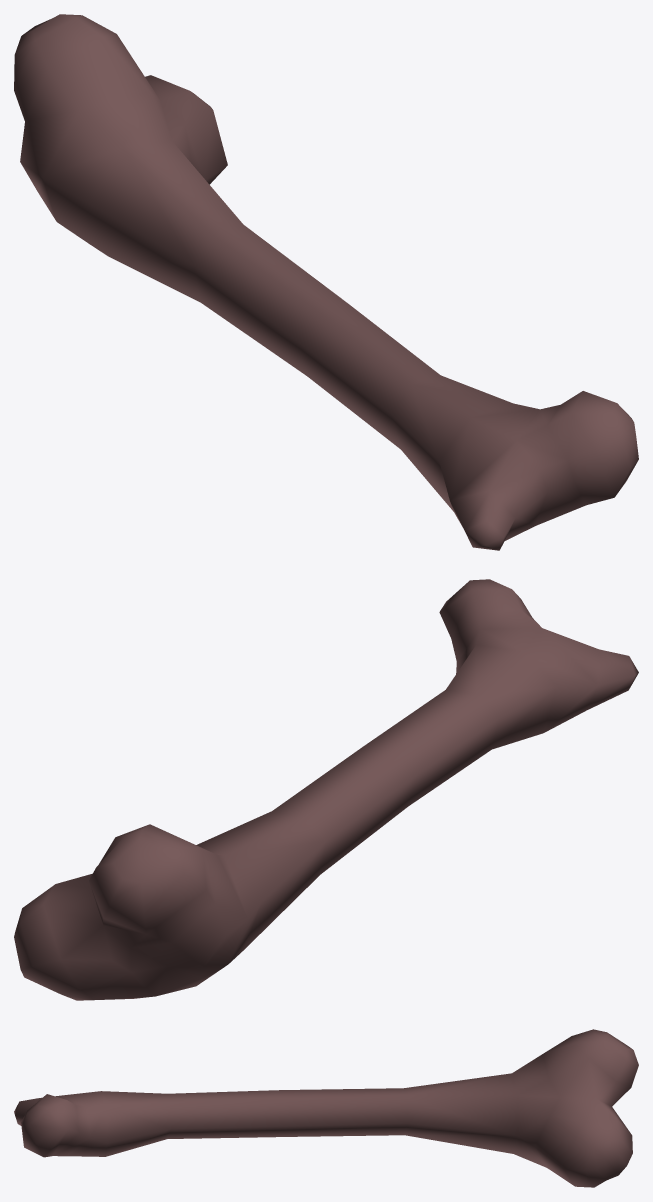
The model's file is SM_DogSkeletonFemur.FBX.
3 renders of one model, top to bottom at view 1: azimuth 30°, elevation 25°; view 2: azimuth 150°, elevation 25°; view 3: azimuth 270°, elevation 25°, orthographic. The views are drawn at different scales.
Visible parts, largest first — view 1: SM_DogSkeletonFemur; view 2: SM_DogSkeletonFemur; view 3: SM_DogSkeletonFemur.
Boxes of the visible parts, <box> form: SM_DogSkeletonFemur: <box>14,14,638,550</box>; SM_DogSkeletonFemur: <box>14,579,638,1000</box>; SM_DogSkeletonFemur: <box>14,1029,638,1187</box>.
Bounding box in the file's own units: 19.19 × 17.63 × 79.38.
